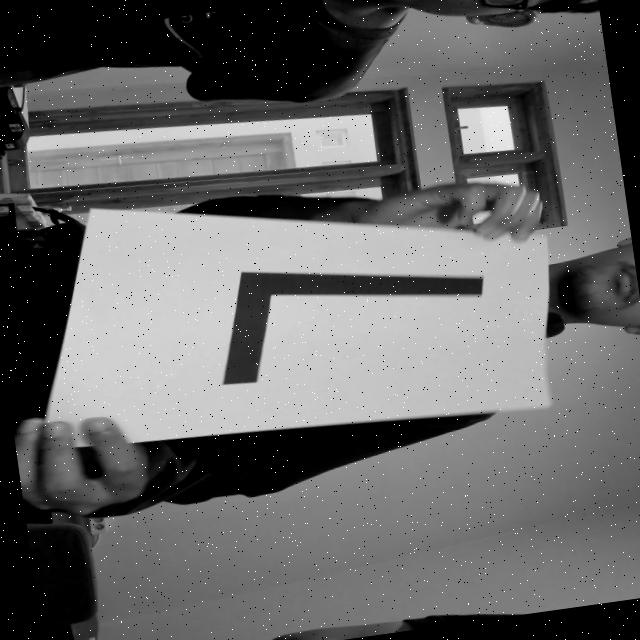l: (185, 232, 509, 396)
